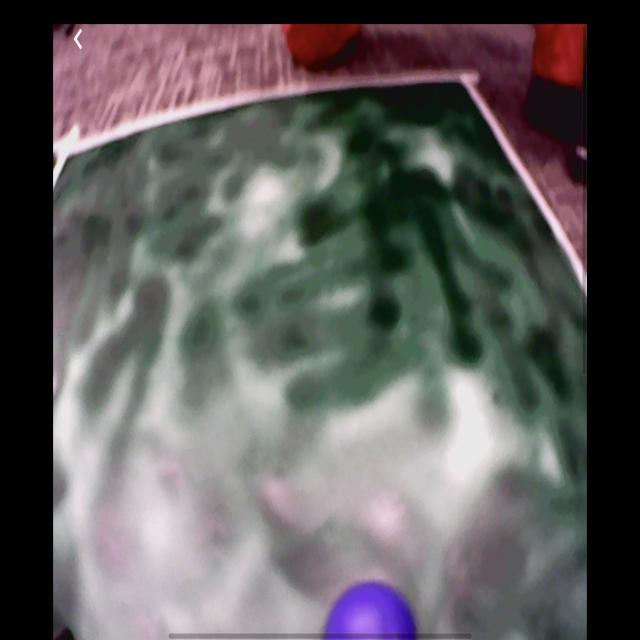ball: (322, 581, 422, 640)
